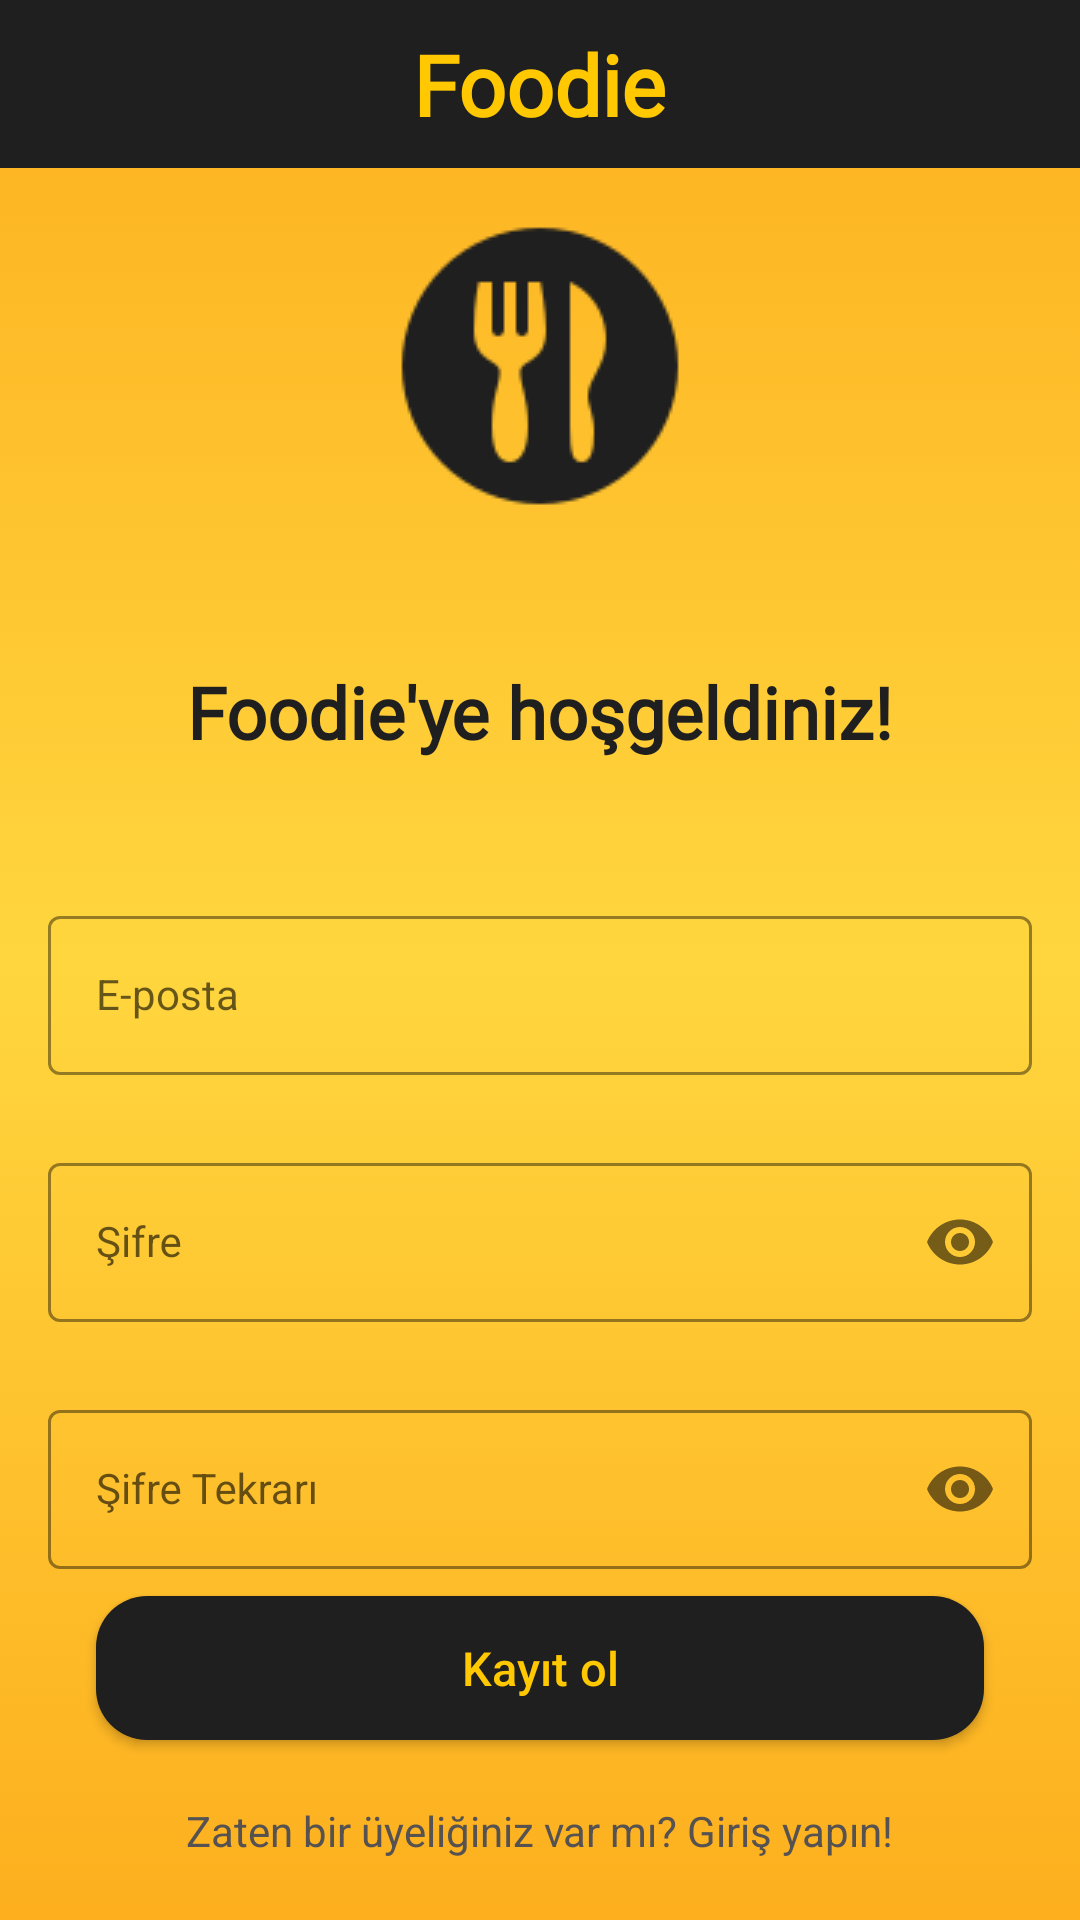

Icon click points for this 1080 x 1920 phone screenshot, format [x,y]:
giris resim: [540,366]
